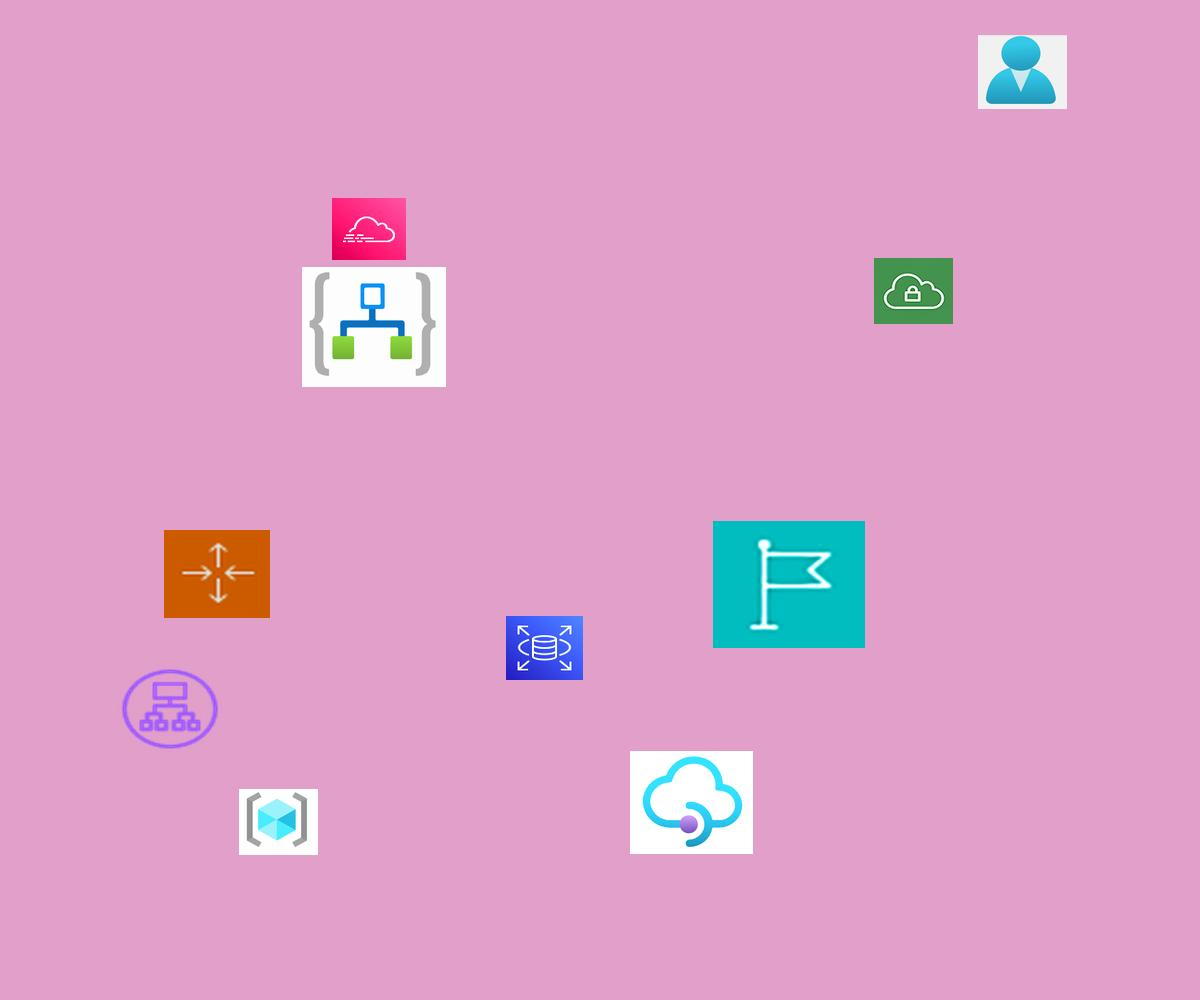AWS-CloudTrail: (332, 198, 406, 260)
AWS-Private_vpc: (874, 258, 953, 324)
AWS-RDS: (506, 616, 583, 680)
AWS-Region: (713, 521, 865, 648)
AWS-Res_Elastic-Load-Balancing_Application-Load-Balancer: (118, 666, 222, 752)
AWS-Scaling-group: (164, 530, 270, 618)
Azure_api_gateway: (630, 751, 753, 854)
Azure_integration-204-Logic-Apps: (302, 267, 446, 387)
Azure_resource_group: (239, 789, 318, 855)
Azure_users: (978, 35, 1067, 109)
